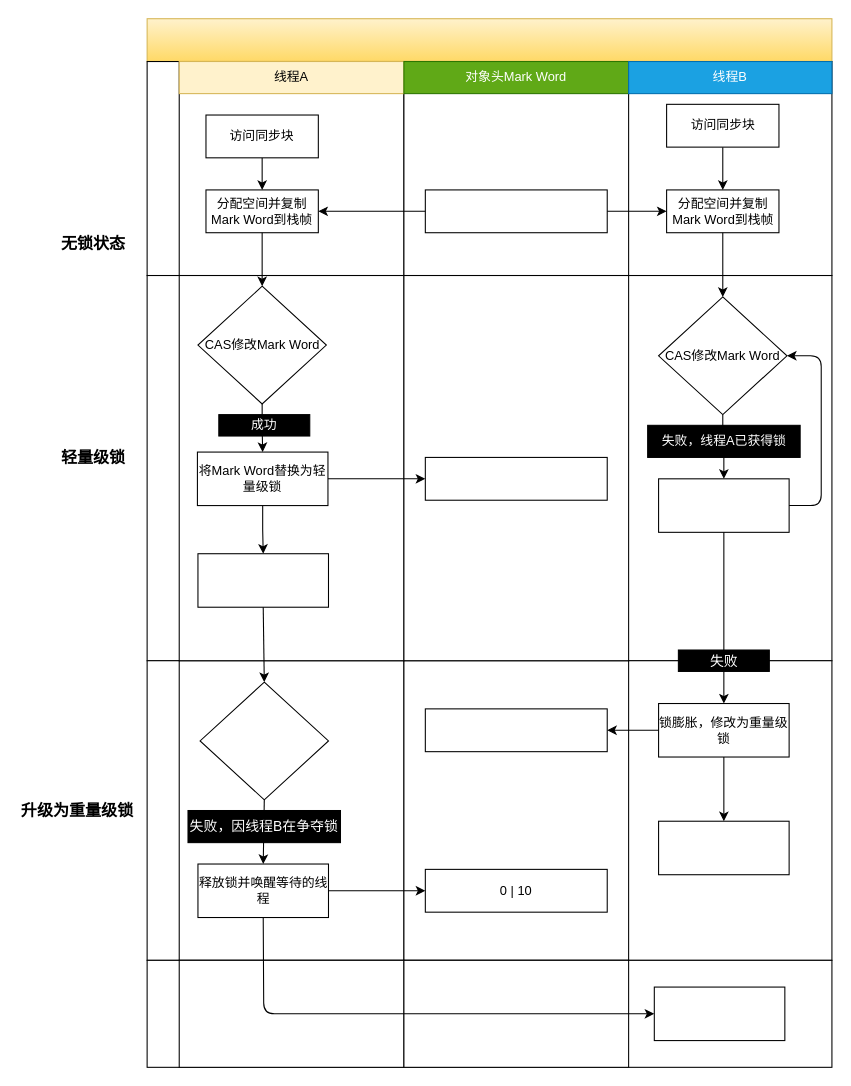
Some shapes in this 851 by 1086 pixel diagram are drawn without their labels. The box of each missing label's shape, as (x1, y1, x2, y2) in pixels:
CAS替换Mark Word 线程A在释放锁: (199, 681, 328, 800)
hash | age | 0（非偏向） | 01: (424, 189, 607, 233)
执行同步体: (197, 553, 328, 607)
指向栈的指针 | 00: (424, 456, 607, 500)
指向重量级锁的指针 | 10: (424, 708, 607, 752)
线程被唤醒，重新争夺锁访问同步块: (653, 986, 785, 1041)
线程阻塞 因为此时线程A拥有锁: (658, 820, 789, 875)
自旋获取锁: (658, 478, 789, 532)
轻量级锁的获取和膨胀流程: (146, 18, 832, 62)
